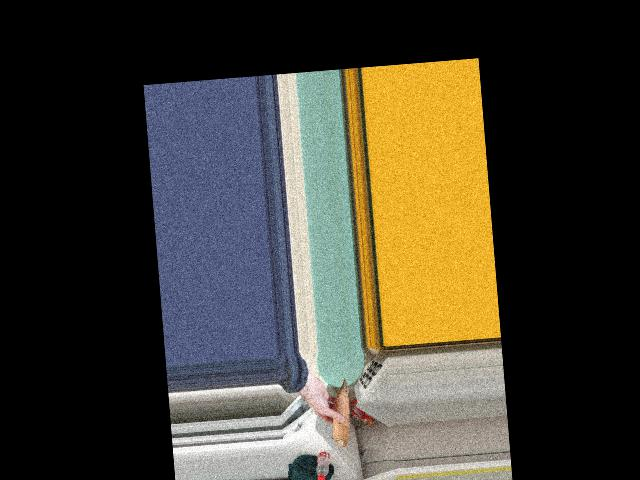sweet_potato: (327, 381, 351, 447)
